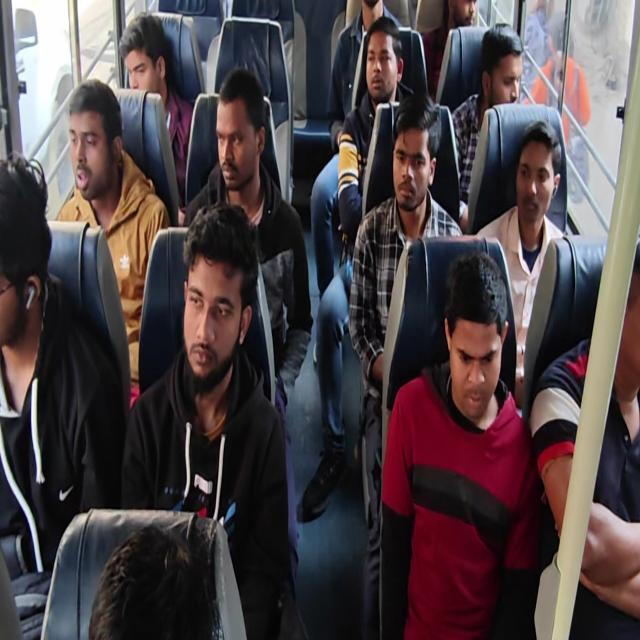person: (180, 200, 264, 406), (89, 524, 216, 640), (0, 150, 58, 358), (441, 256, 507, 416), (214, 56, 273, 192), (68, 83, 129, 210), (509, 114, 564, 227), (388, 98, 439, 218), (605, 231, 640, 384), (119, 8, 171, 98), (475, 22, 526, 110), (363, 15, 402, 104), (447, 0, 480, 30)
